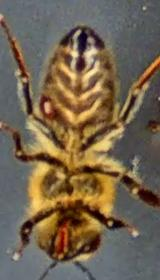varroa_mite: (30, 85, 70, 125)
